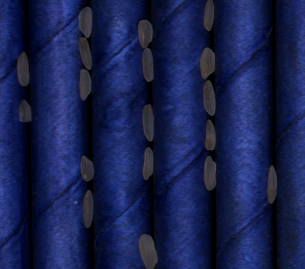broken_grain: (137, 18, 155, 50), (78, 154, 96, 183), (18, 98, 33, 124)
complete_grain: (137, 232, 161, 269), (200, 79, 220, 116), (140, 103, 156, 144), (76, 6, 95, 39), (15, 50, 31, 88), (202, 155, 218, 193), (265, 164, 279, 206), (80, 190, 95, 229), (140, 144, 155, 182), (204, 118, 219, 153), (141, 47, 155, 84), (78, 68, 92, 101), (201, 1, 216, 30)
yellow_grain: (197, 46, 218, 80), (77, 37, 95, 71)
